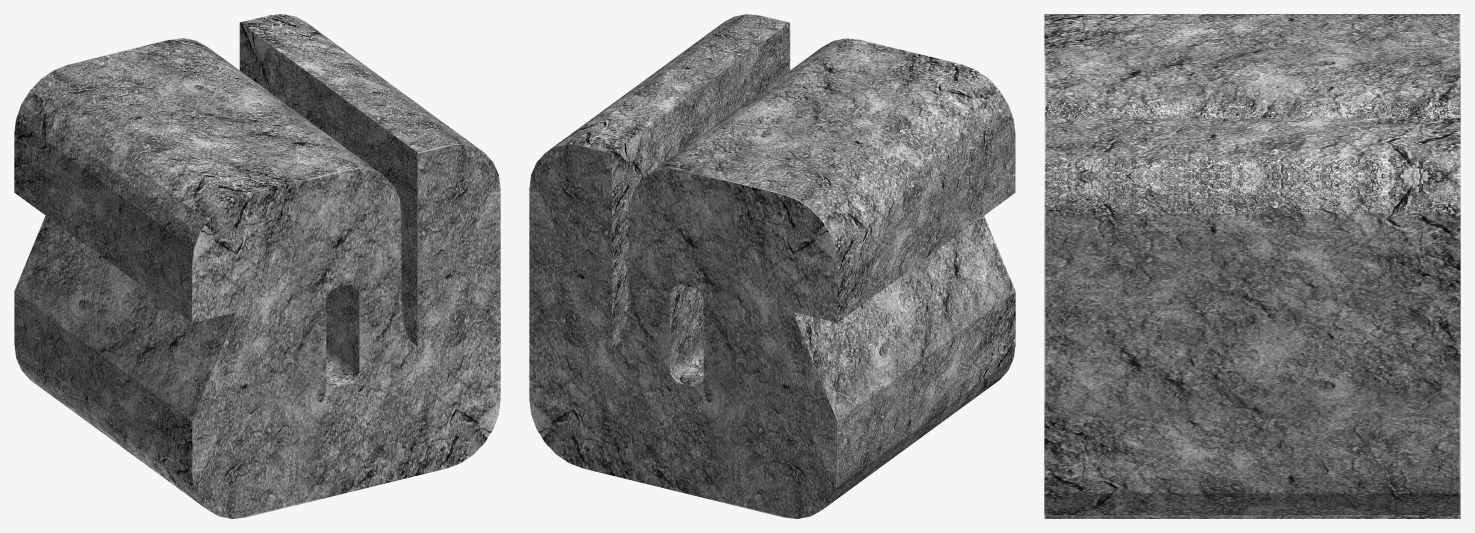
The model's file is zou_rock.fbx.
3 views of the same model, side by side, from view 1: azimuth 30°, elevation 25°; view 2: azimuth 150°, elevation 25°; view 3: azimuth 270°, elevation 25° (orthographic). The views are drawn at different scales.
Visible parts, largest first — view 1: Cube; view 2: Cube; view 3: Cube.
Boxes of the visible parts, x1,y1,x2,y2 form: Cube: (14,14,500,518); Cube: (529,14,1015,518); Cube: (1044,14,1460,518).
Size of the model in its own units: 1 by 1 by 1.
